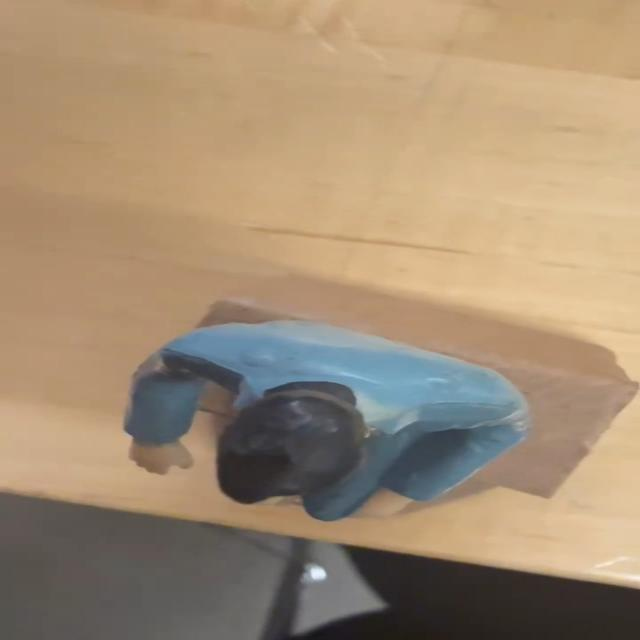Authorized: (113, 318, 534, 531)
